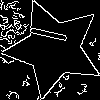I: (29, 23, 77, 47)
